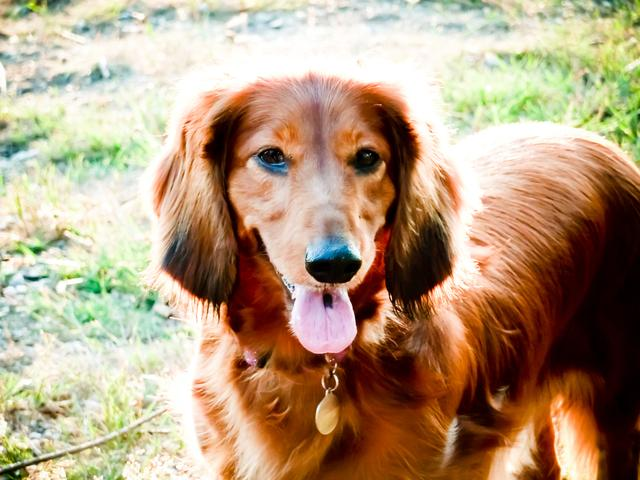dog: (117, 62, 608, 453)
